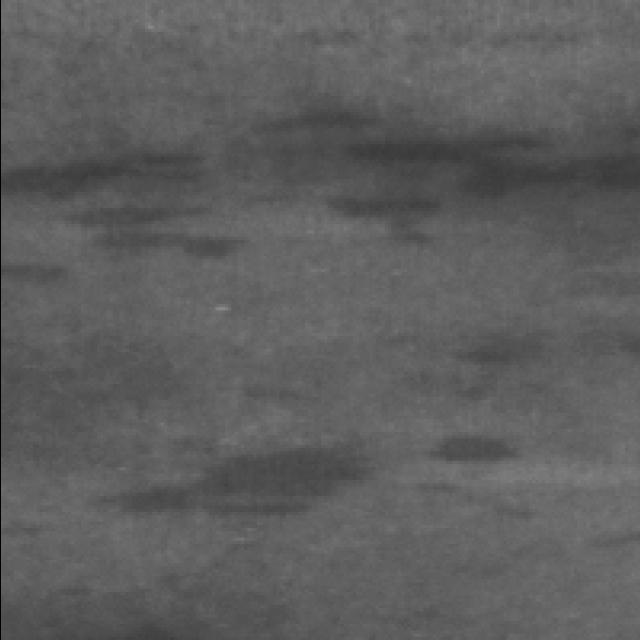inclusion: (243, 106, 640, 237), (103, 432, 366, 546), (0, 146, 241, 268), (412, 415, 532, 481)
